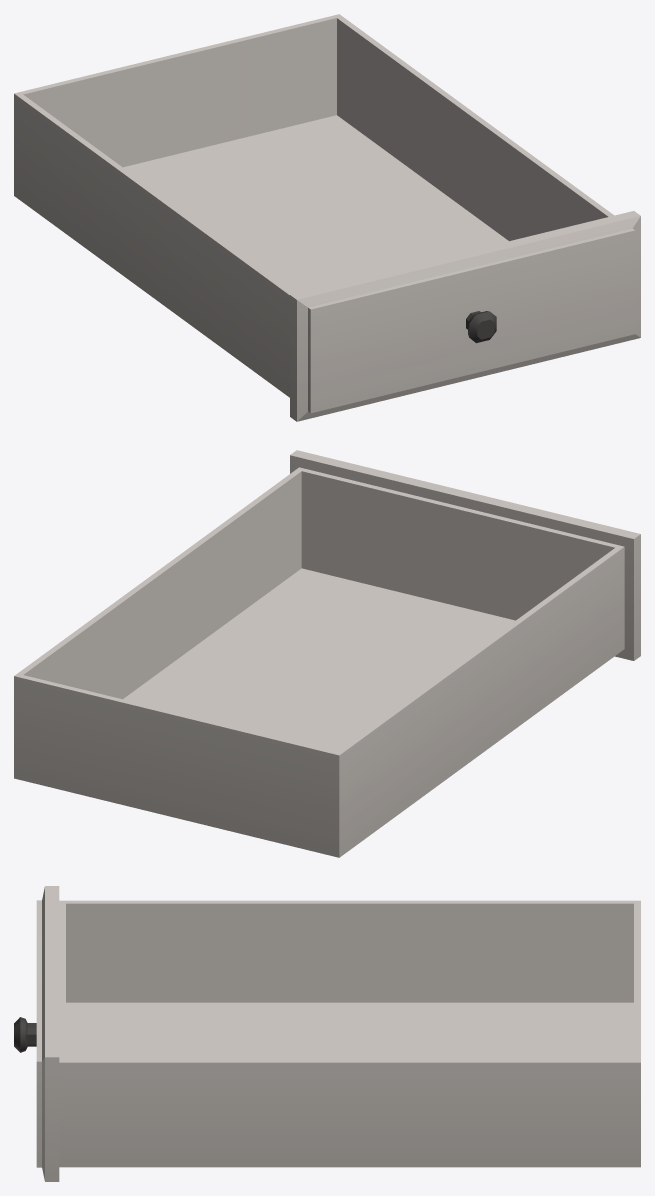
Rendered from Drawer_Unit_50cm_Small.fbx.
3 views of the same model, one above another, from view 1: azimuth 30°, elevation 25°; view 2: azimuth 150°, elevation 25°; view 3: azimuth 270°, elevation 25° (orthographic).
Visible parts, largest first — view 1: Drawer_Unit_50cm_Small; view 2: Drawer_Unit_50cm_Small; view 3: Drawer_Unit_50cm_Small.
Boxes of the visible parts, bbox=[...] form: Drawer_Unit_50cm_Small: bbox=[14, 14, 640, 421]; Drawer_Unit_50cm_Small: bbox=[14, 450, 640, 857]; Drawer_Unit_50cm_Small: bbox=[14, 886, 640, 1181].
Size of the model in its own units: 49.19 by 16.66 by 76.11.
